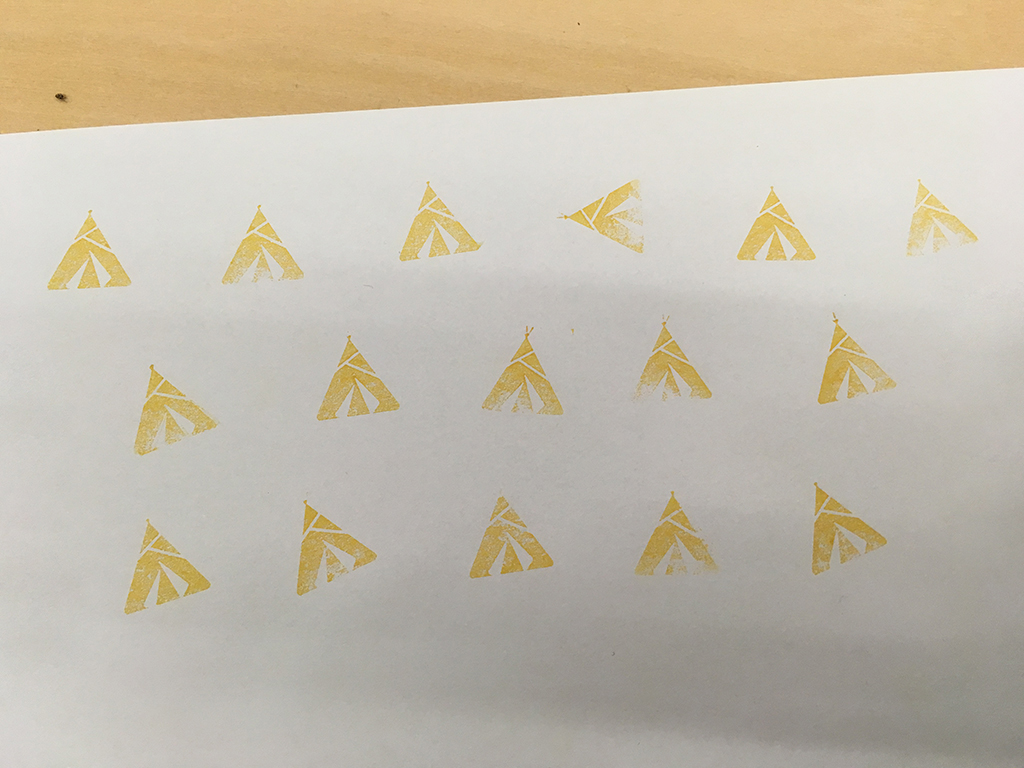tent: (283, 491, 388, 605), (123, 352, 225, 462), (306, 326, 408, 430), (117, 514, 214, 620), (546, 172, 656, 262), (475, 322, 574, 420), (628, 488, 727, 585), (34, 203, 137, 296), (460, 482, 558, 579), (213, 199, 312, 292), (627, 313, 717, 413), (806, 474, 893, 576), (814, 309, 901, 405), (396, 178, 487, 268), (900, 171, 985, 266), (729, 179, 820, 266)
